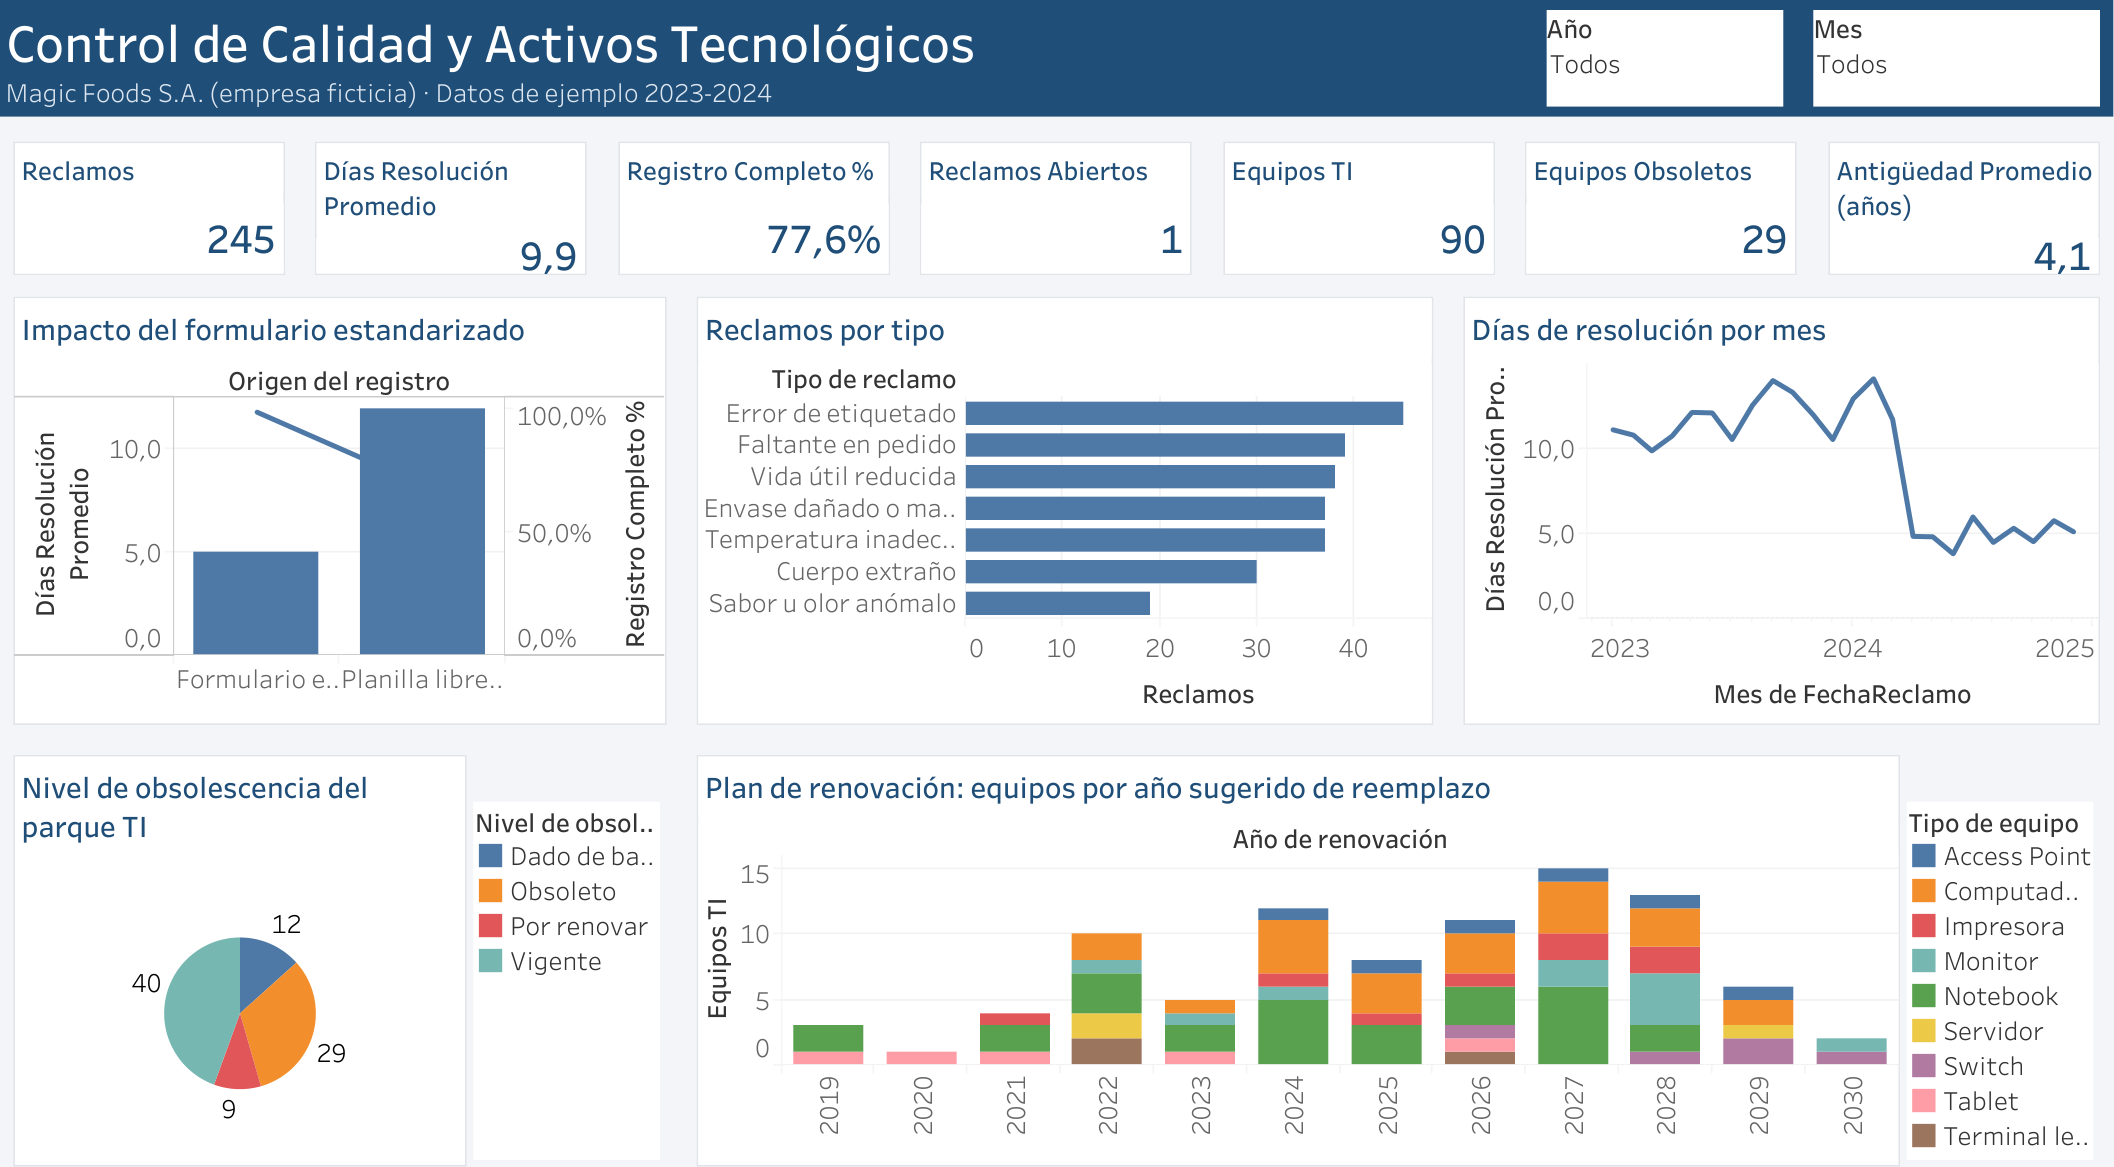

The dashboard page shown, as its layout file describes it:
{"tool":"tableau","page":{"name":"Calidad y Activos TI","canvas":[1280,720],"ordinal":6},"visuals":[{"type":"text","box":[0,0,1280,82]},{"type":"parameter","param":"[Parameters].[pAnio]","box":[930,8,150,66]},{"type":"parameter","param":"[Parameters].[pMes]","box":[1090,8,180,66]},{"type":"worksheet","title":"Q · Reclamos","mark":"Text","box":[10,87,171,88]},{"type":"worksheet","title":"Q · Dias Resolucion","mark":"Text","box":[191,87,171,88]},{"type":"worksheet","title":"Q · Registro Completo","mark":"Text","box":[373,87,171,88]},{"type":"worksheet","title":"Q · Reclamos Abiertos","mark":"Text","box":[554,87,171,88]},{"type":"worksheet","title":"Q · Equipos TI","mark":"Text","box":[736,87,171,88]},{"type":"worksheet","title":"Q · Equipos Obsoletos","mark":"Text","box":[917,87,171,88]},{"type":"worksheet","title":"Q · Antiguedad","mark":"Text","box":[1099,87,171,88]},{"type":"worksheet","title":"Q · Impacto Formulario","mark":"Automatic","rows":["DiasRes","RegComp"],"cols":["OrigenRegistro"],"box":[10,180,400,265]},{"type":"worksheet","title":"Q · Reclamos por Tipo","mark":"Bar","rows":["TipoReclamo"],"cols":["NRecl"],"box":[420,180,450,265]},{"type":"worksheet","title":"Q · Dias Resolucion Mes","mark":"Line","rows":["DiasRes"],"cols":["FechaReclamo"],"box":[880,180,390,265]},{"type":"worksheet","title":"Q · Obsolescencia","mark":"Pie","box":[10,455,280,255]},{"type":"worksheet","title":"Q · Plan Renovacion","mark":"Bar","rows":["NEq"],"cols":["AnioRenovacion"],"box":[420,455,730,255]},{"type":"legend","title":"Q · Obsolescencia","param":"[federated.01b98163bf2e949eb600fce20ae1].[none:NivelObsolescencia:nk]","box":[290,487,112,215]},{"type":"legend","title":"Q · Plan Renovacion","param":"[federated.01b98163bf2e949eb600fce20ae1].[none:TipoEquipo:nk]","box":[1150,487,112,215]}]}

Visuals, with their boxes in screenshot pixels (x1, y1, x2, y2), scaled from the page's 1280x720 canvas onto the 2114x1167 screenshot:
text: 0, 0, 2113, 133
parameter: 1536, 13, 1784, 120
parameter: 1800, 13, 2097, 120
"Q · Reclamos" worksheet (Text marks): 17, 141, 299, 284
"Q · Dias Resolucion" worksheet (Text marks): 315, 141, 598, 284
"Q · Registro Completo" worksheet (Text marks): 616, 141, 898, 284
"Q · Reclamos Abiertos" worksheet (Text marks): 915, 141, 1197, 284
"Q · Equipos TI" worksheet (Text marks): 1216, 141, 1498, 284
"Q · Equipos Obsoletos" worksheet (Text marks): 1514, 141, 1797, 284
"Q · Antiguedad" worksheet (Text marks): 1815, 141, 2097, 284
"Q · Impacto Formulario" worksheet: 17, 292, 677, 721
"Q · Reclamos por Tipo" worksheet (Bar marks): 694, 292, 1437, 721
"Q · Dias Resolucion Mes" worksheet (Line marks): 1453, 292, 2097, 721
"Q · Obsolescencia" worksheet (Pie marks): 17, 737, 479, 1151
"Q · Plan Renovacion" worksheet (Bar marks): 694, 737, 1899, 1151
"Q · Obsolescencia" legend: 479, 789, 664, 1138
"Q · Plan Renovacion" legend: 1899, 789, 2084, 1138
